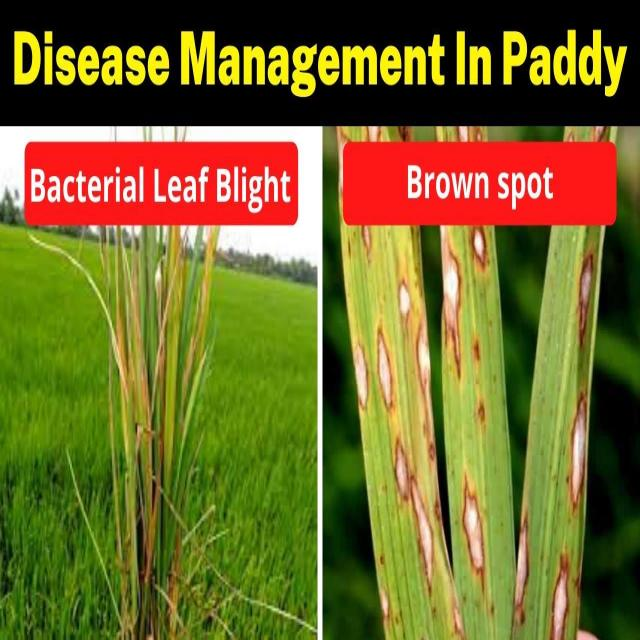blight: (368, 268, 432, 548)
